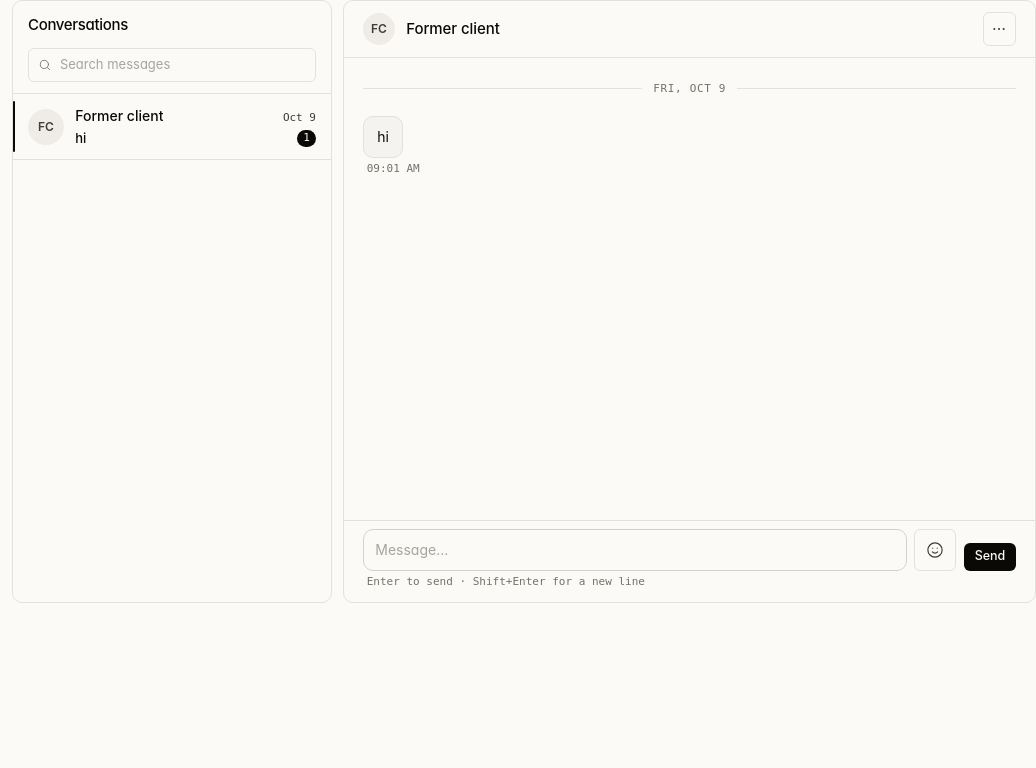
Test: MessagingCenter: sending (CONTRACT §6.2) › a read-only refusal fails without Retry and switches the thread to its notice
Check: the text "hi" is shown, box [363,116,403,158]
Type "too late" into the text box named "Message ".
click(635, 550); type("too late")  # box [363,528,907,570]
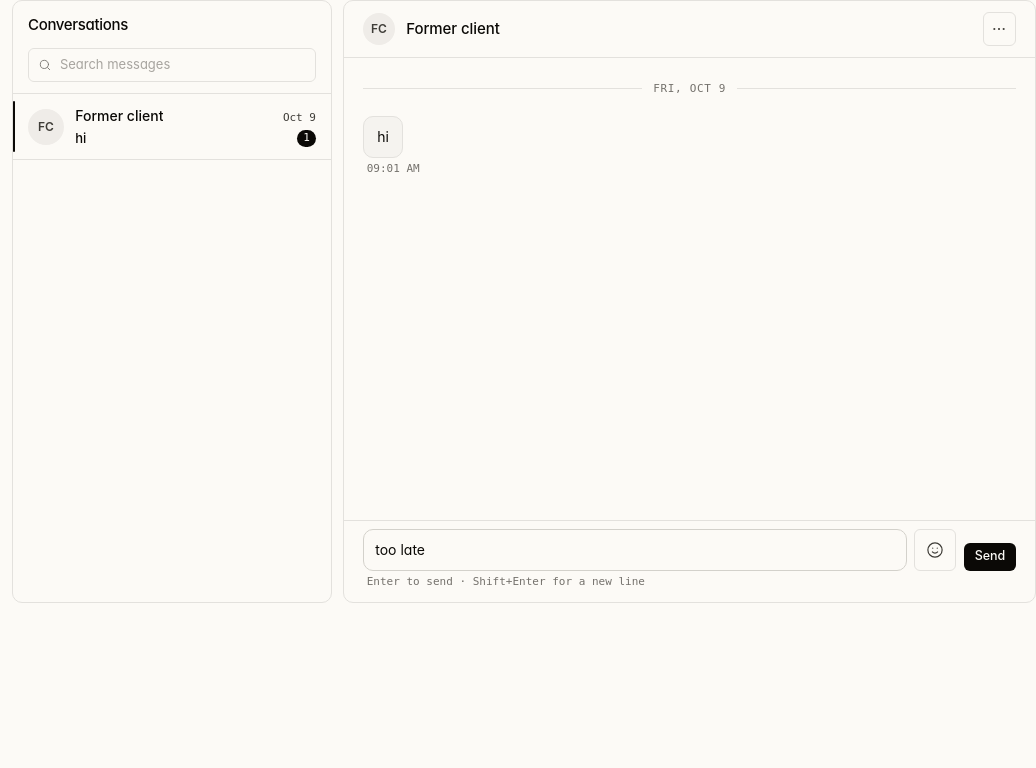
Press Enter in the text box named "Message ", box [363,528,907,570]
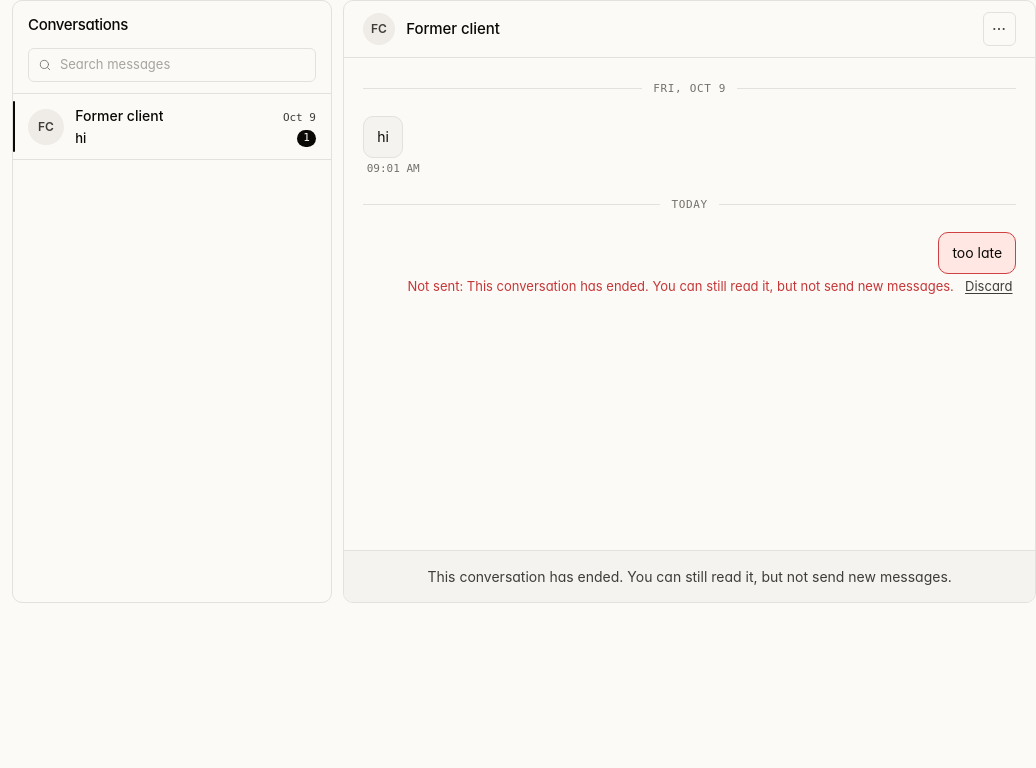
Check: the text "Not sent: This conversation has ended. You can still read it, but not send new messages." is shown, box [408,278,954,294]
Click the button "Discard".
click(989, 287)  # box [965,277,1012,297]
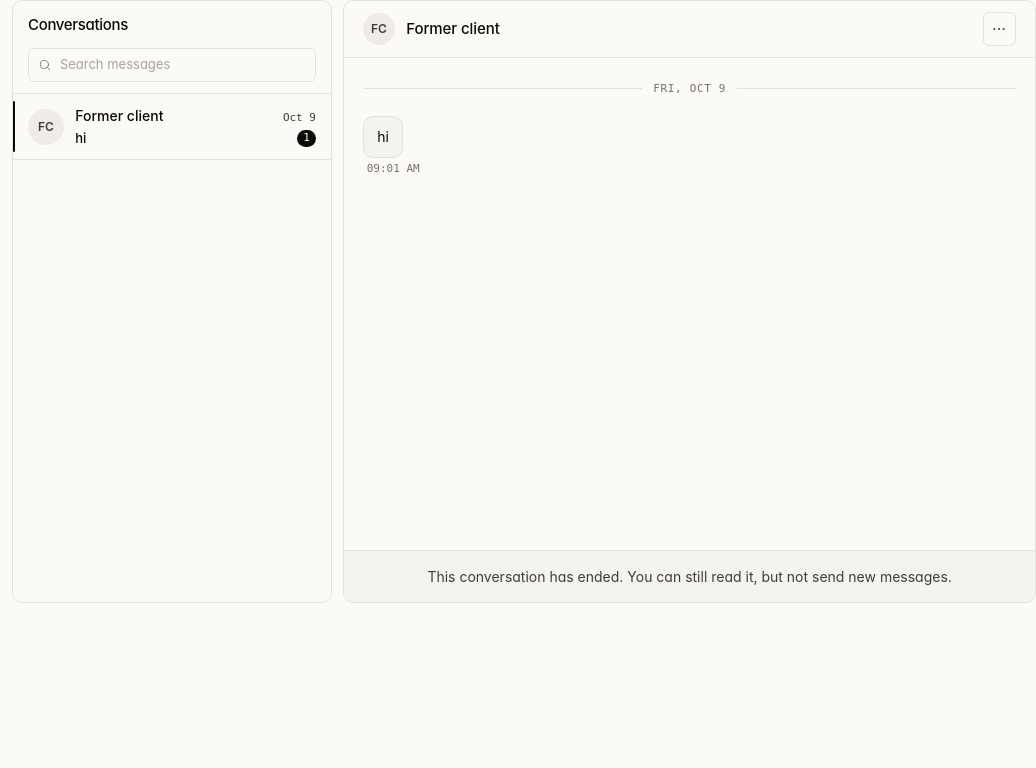
Check: the text "too late" is gone
